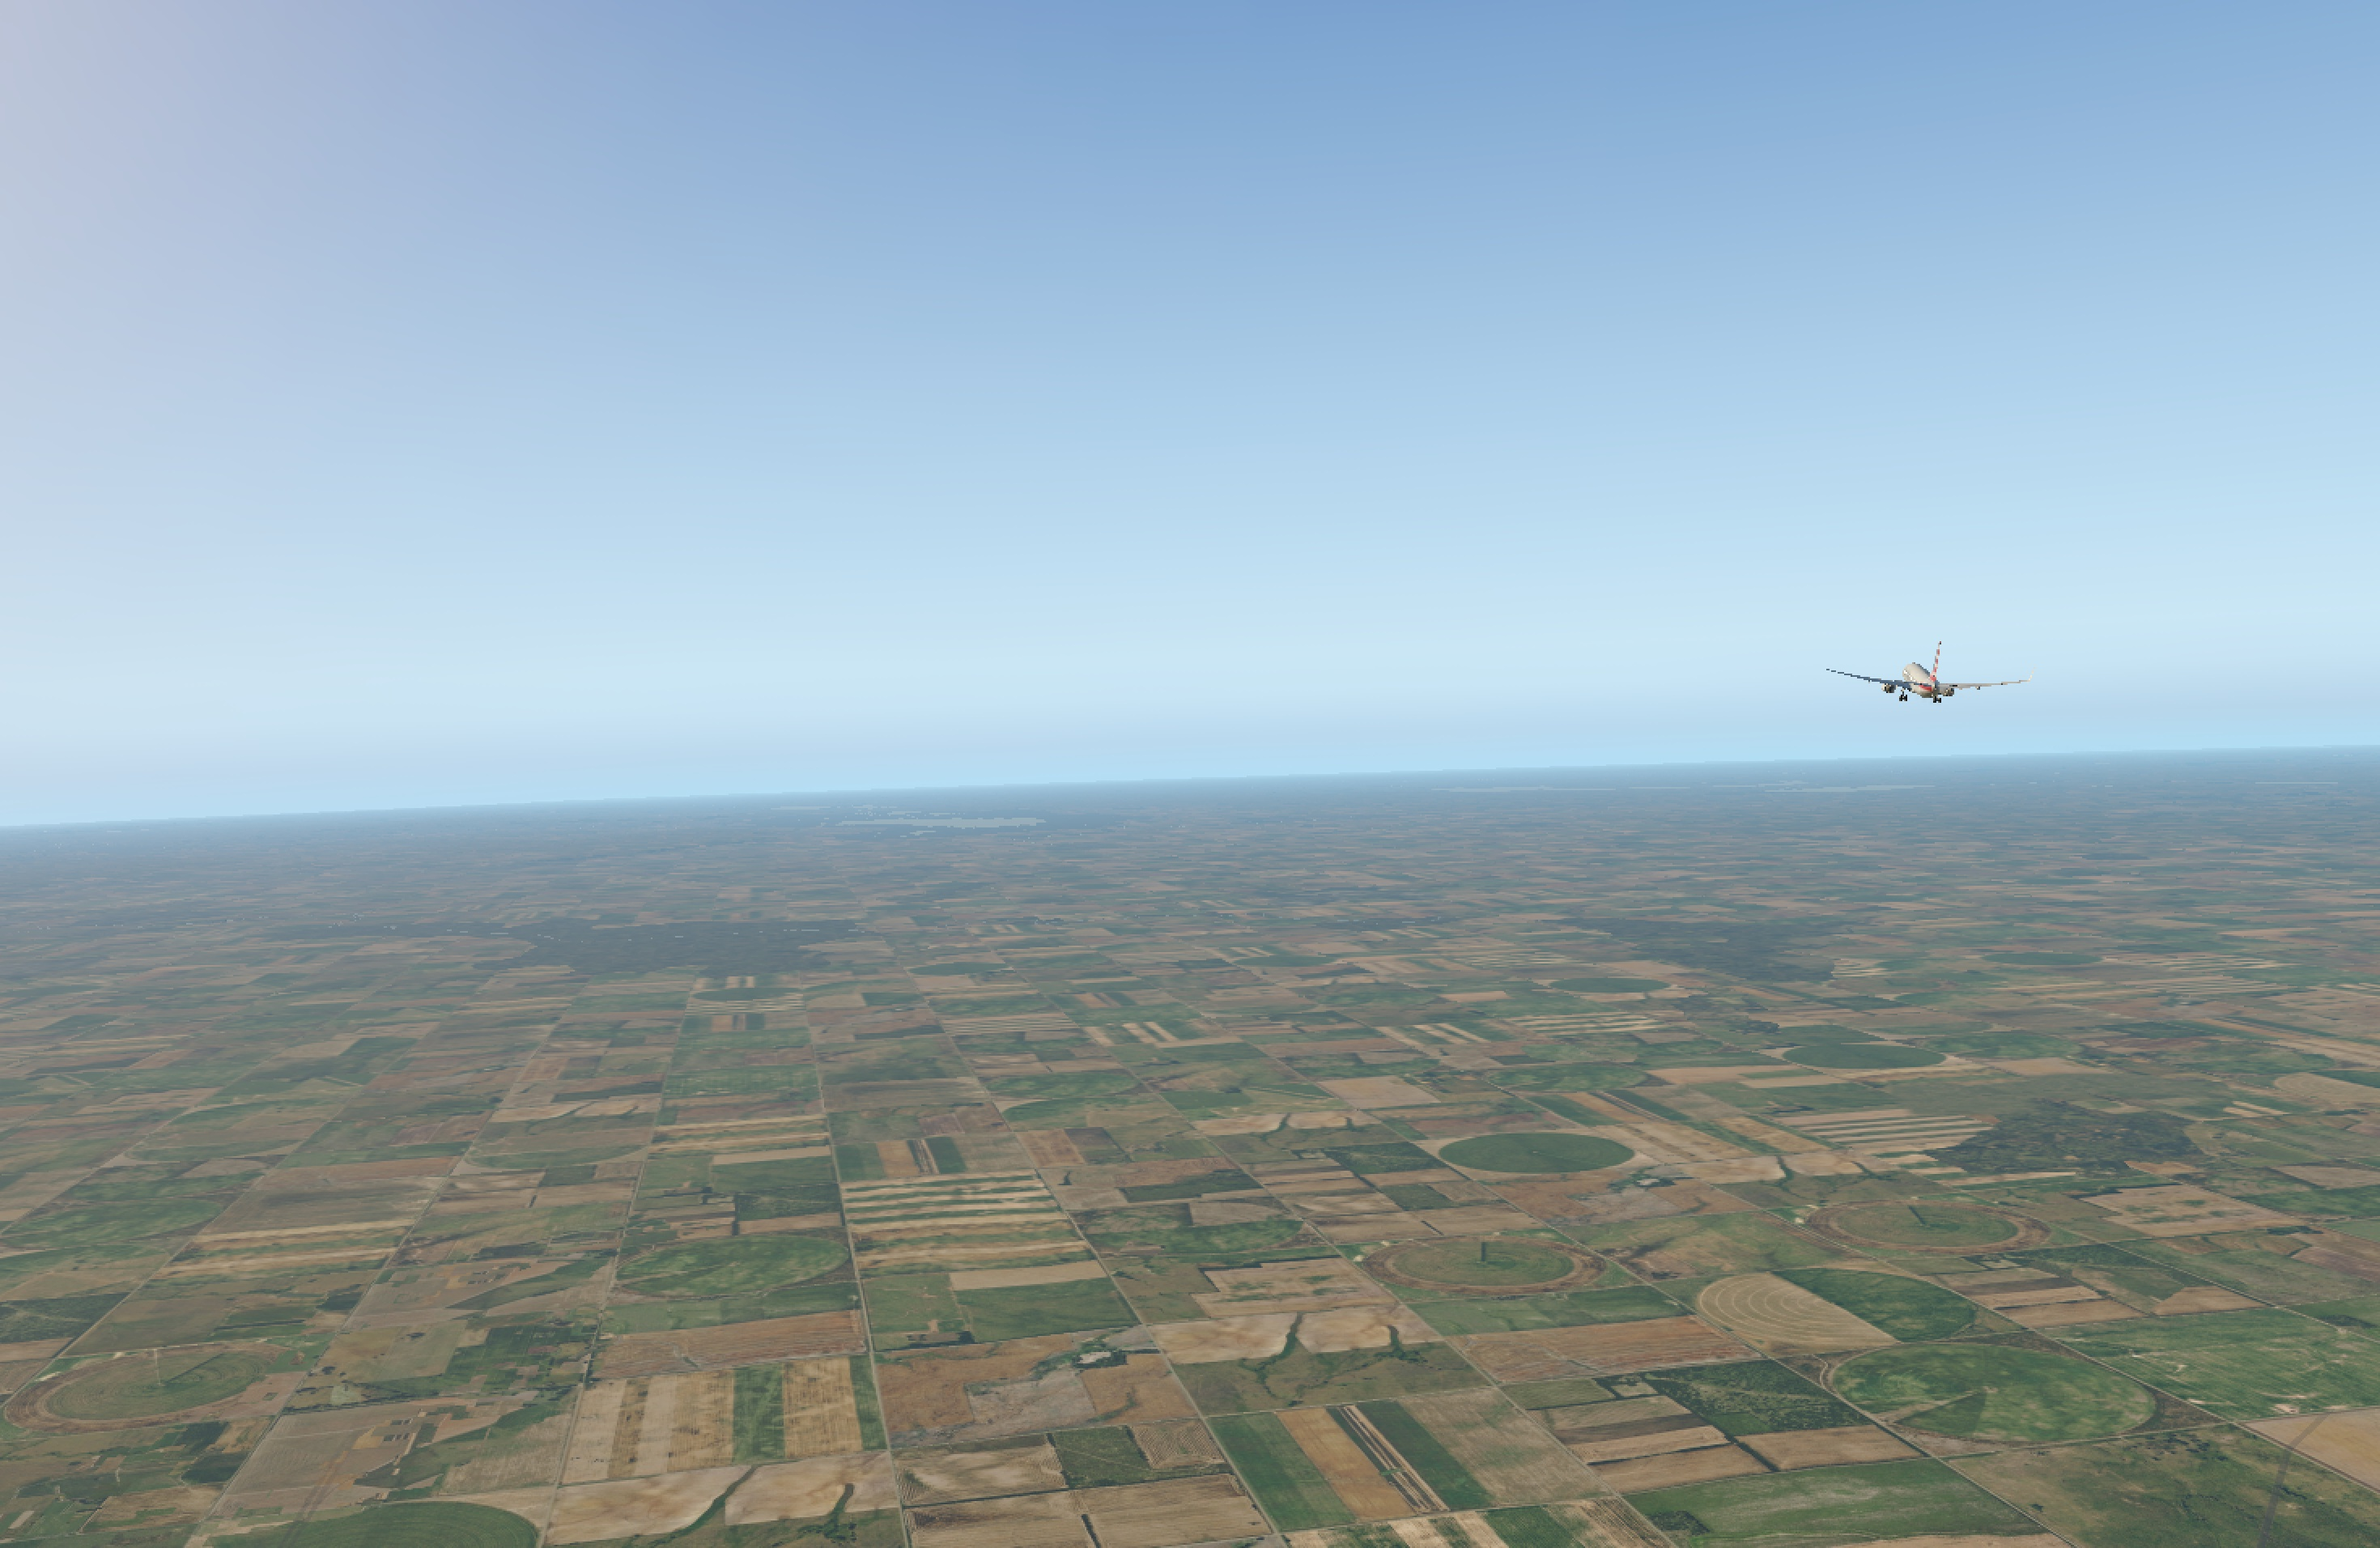aircraft: (1816, 646, 2026, 724)
